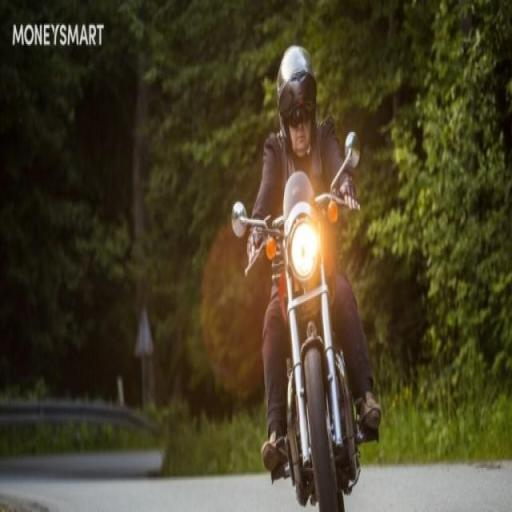Helmet: (277, 46, 316, 146)
Motor: (232, 132, 377, 511)
